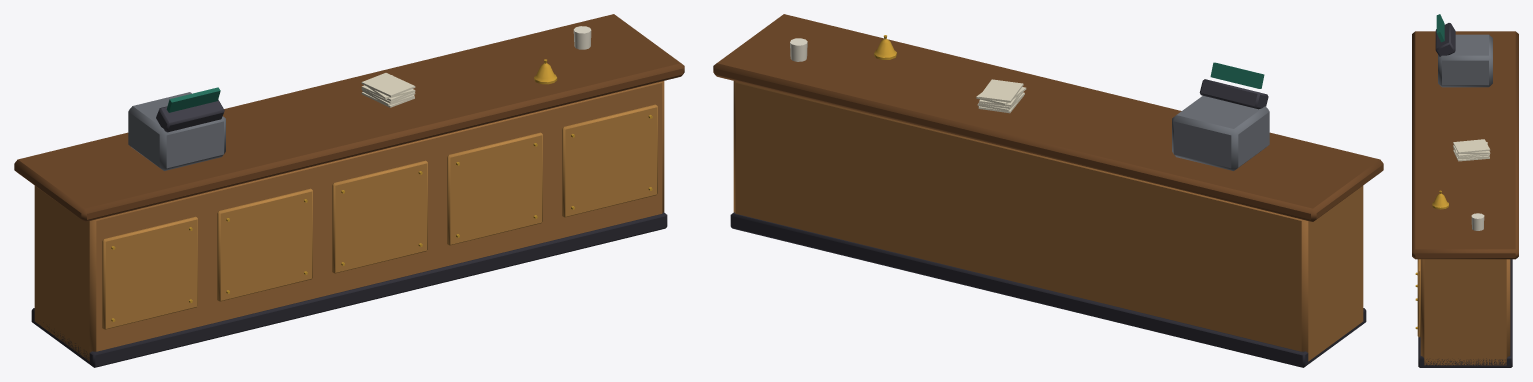
Rendered from counter_block.glb.
3 renders of one model, left to right at view 1: azimuth 30°, elevation 25°; view 2: azimuth 150°, elevation 25°; view 3: azimuth 270°, elevation 25°, orthographic. The views are drawn at different scales.
Visible parts, largest first — view 1: counter; view 2: counter; view 3: counter.
Part boxes in pixels (x1,y1,x2,y2): counter: [14, 14, 684, 367]; counter: [713, 14, 1383, 367]; counter: [1412, 14, 1518, 367].
Bounding box in the file's own units: 4.2 × 1.58 × 0.86.
